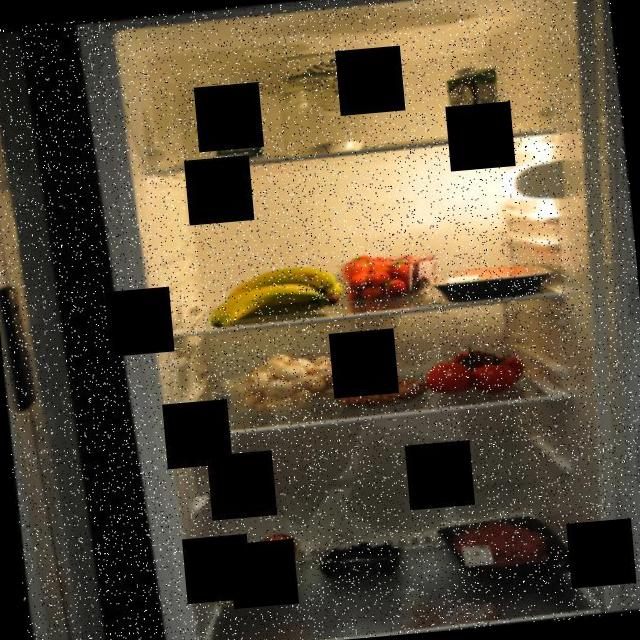Cebolla: (214, 526, 294, 600)
Champiñones: (221, 343, 367, 414)
Gambas/Langostinos: (339, 371, 427, 413)
Plátano: (203, 258, 343, 328)
Tomate: (418, 338, 530, 400)
